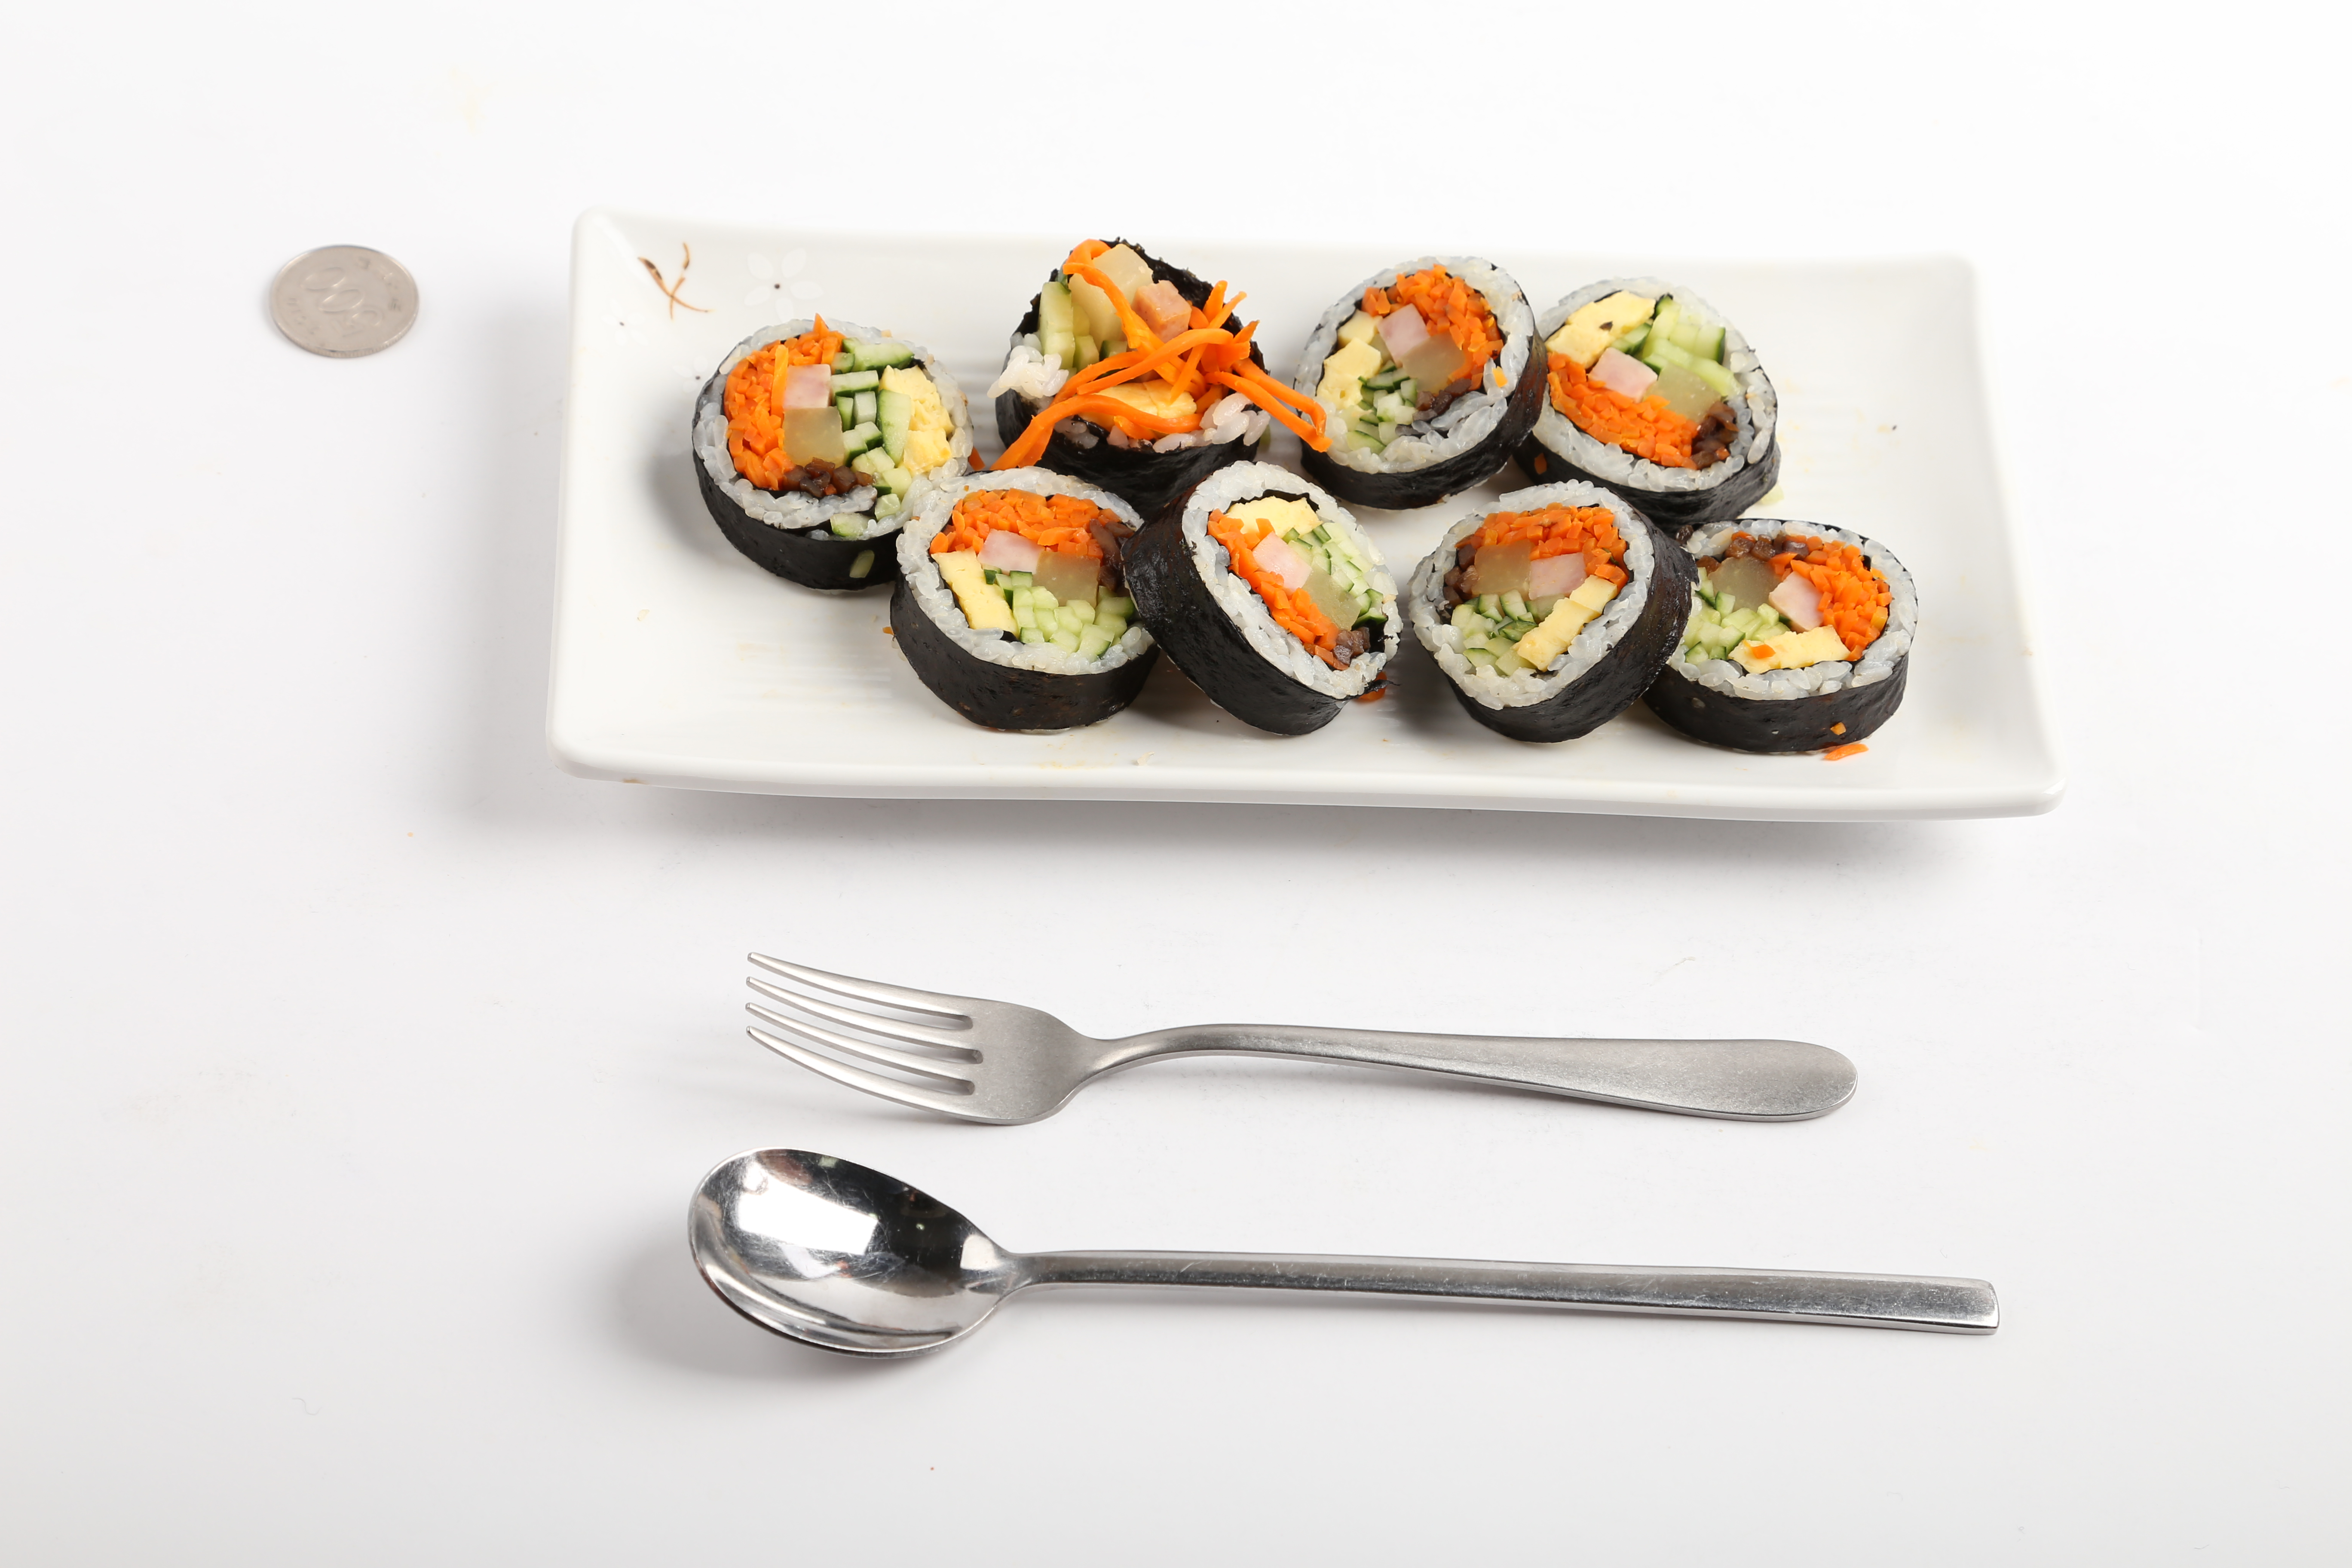dish: (541, 203, 2063, 828)
ref_coin: (261, 233, 422, 360)
ref_fork: (740, 943, 1158, 1134)
ref_spoon: (691, 1137, 1099, 1360)
김밥: (686, 231, 1925, 759)
